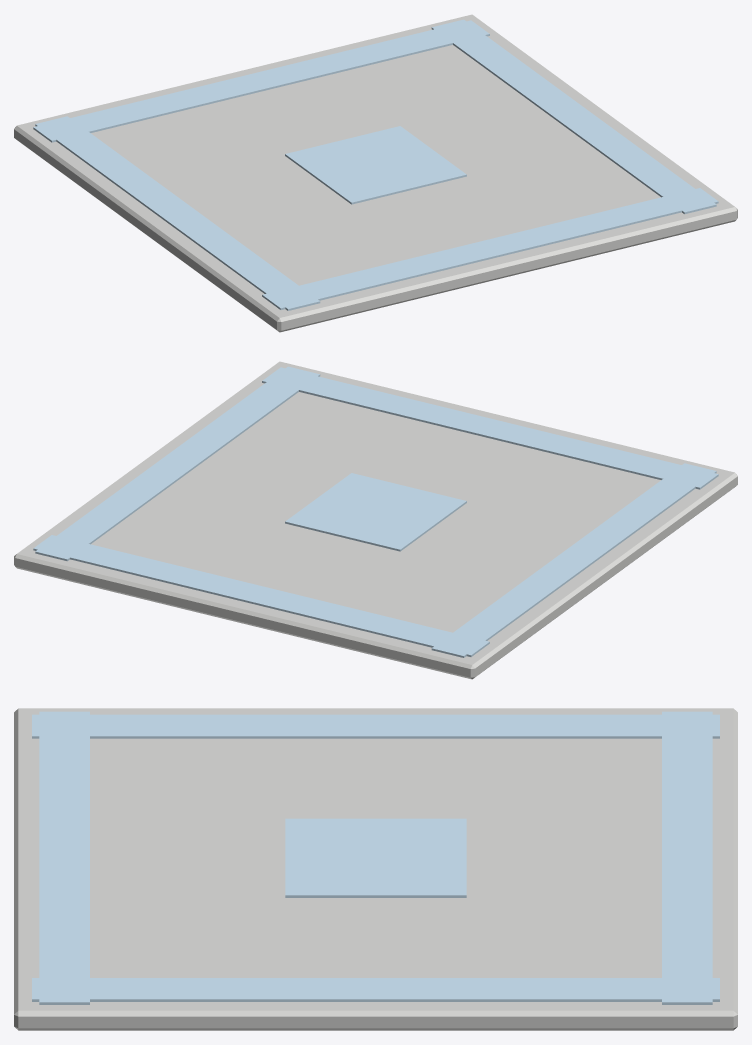
Rendered from ct-room-floor.glb.
The picture shows the model from 3 angles, top to bottom: view 1: azimuth 30°, elevation 25°; view 2: azimuth 150°, elevation 25°; view 3: azimuth 270°, elevation 25°; orthographic projection. The views are drawn at different scales.
Visible parts, largest first — view 1: corridor-floor-tile; view 2: corridor-floor-tile; view 3: corridor-floor-tile.
Part boxes in pixels (<box>): corridor-floor-tile: <box>14,14,737,332</box>; corridor-floor-tile: <box>14,361,737,679</box>; corridor-floor-tile: <box>14,708,737,1030</box>.
Size of the model in its own units: 2 by 0.068 by 2.
